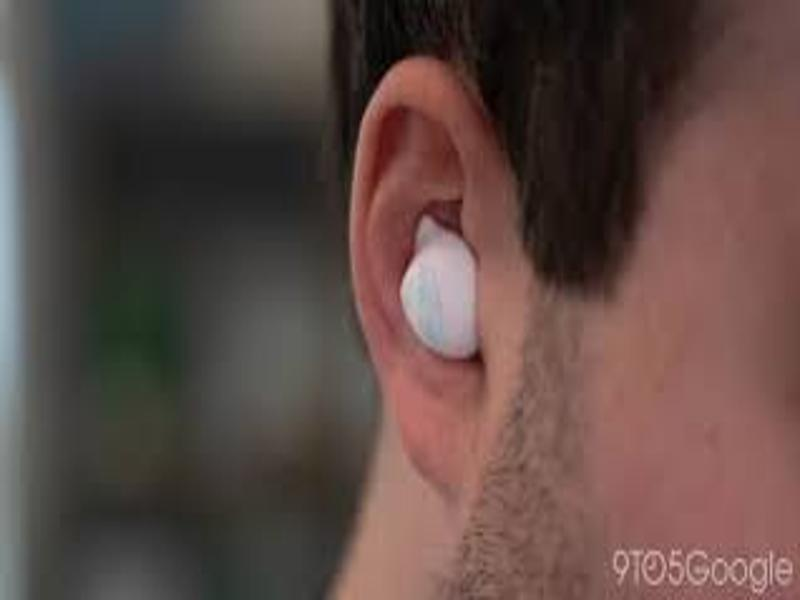headphone: (397, 215, 486, 364)
